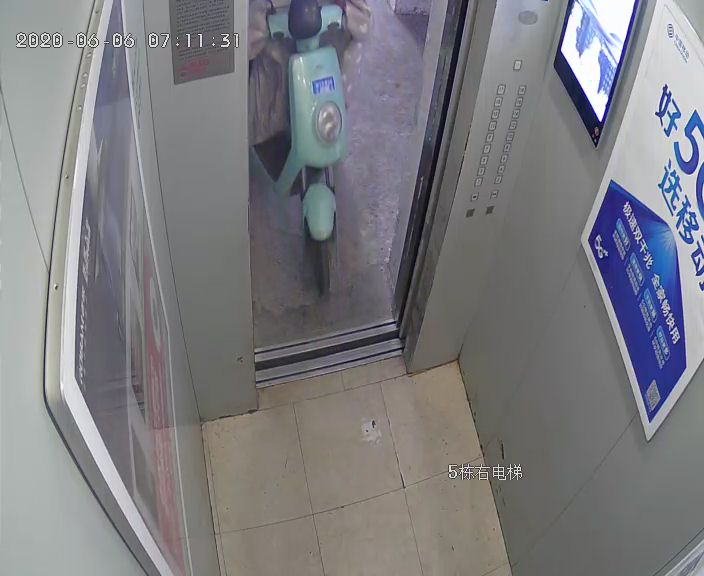Electric-bicycle: (247, 1, 373, 295)
